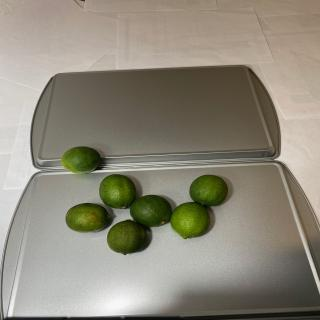Lemon: (170, 202, 210, 239), (107, 219, 147, 255), (130, 195, 172, 228), (65, 203, 110, 233), (99, 174, 136, 209), (189, 174, 228, 206), (61, 146, 101, 174)
